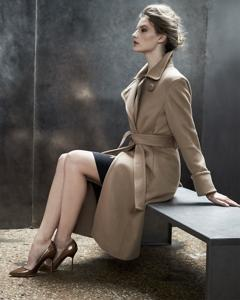S_coat: (90, 48, 212, 268)
S_heels: (7, 237, 78, 283)
